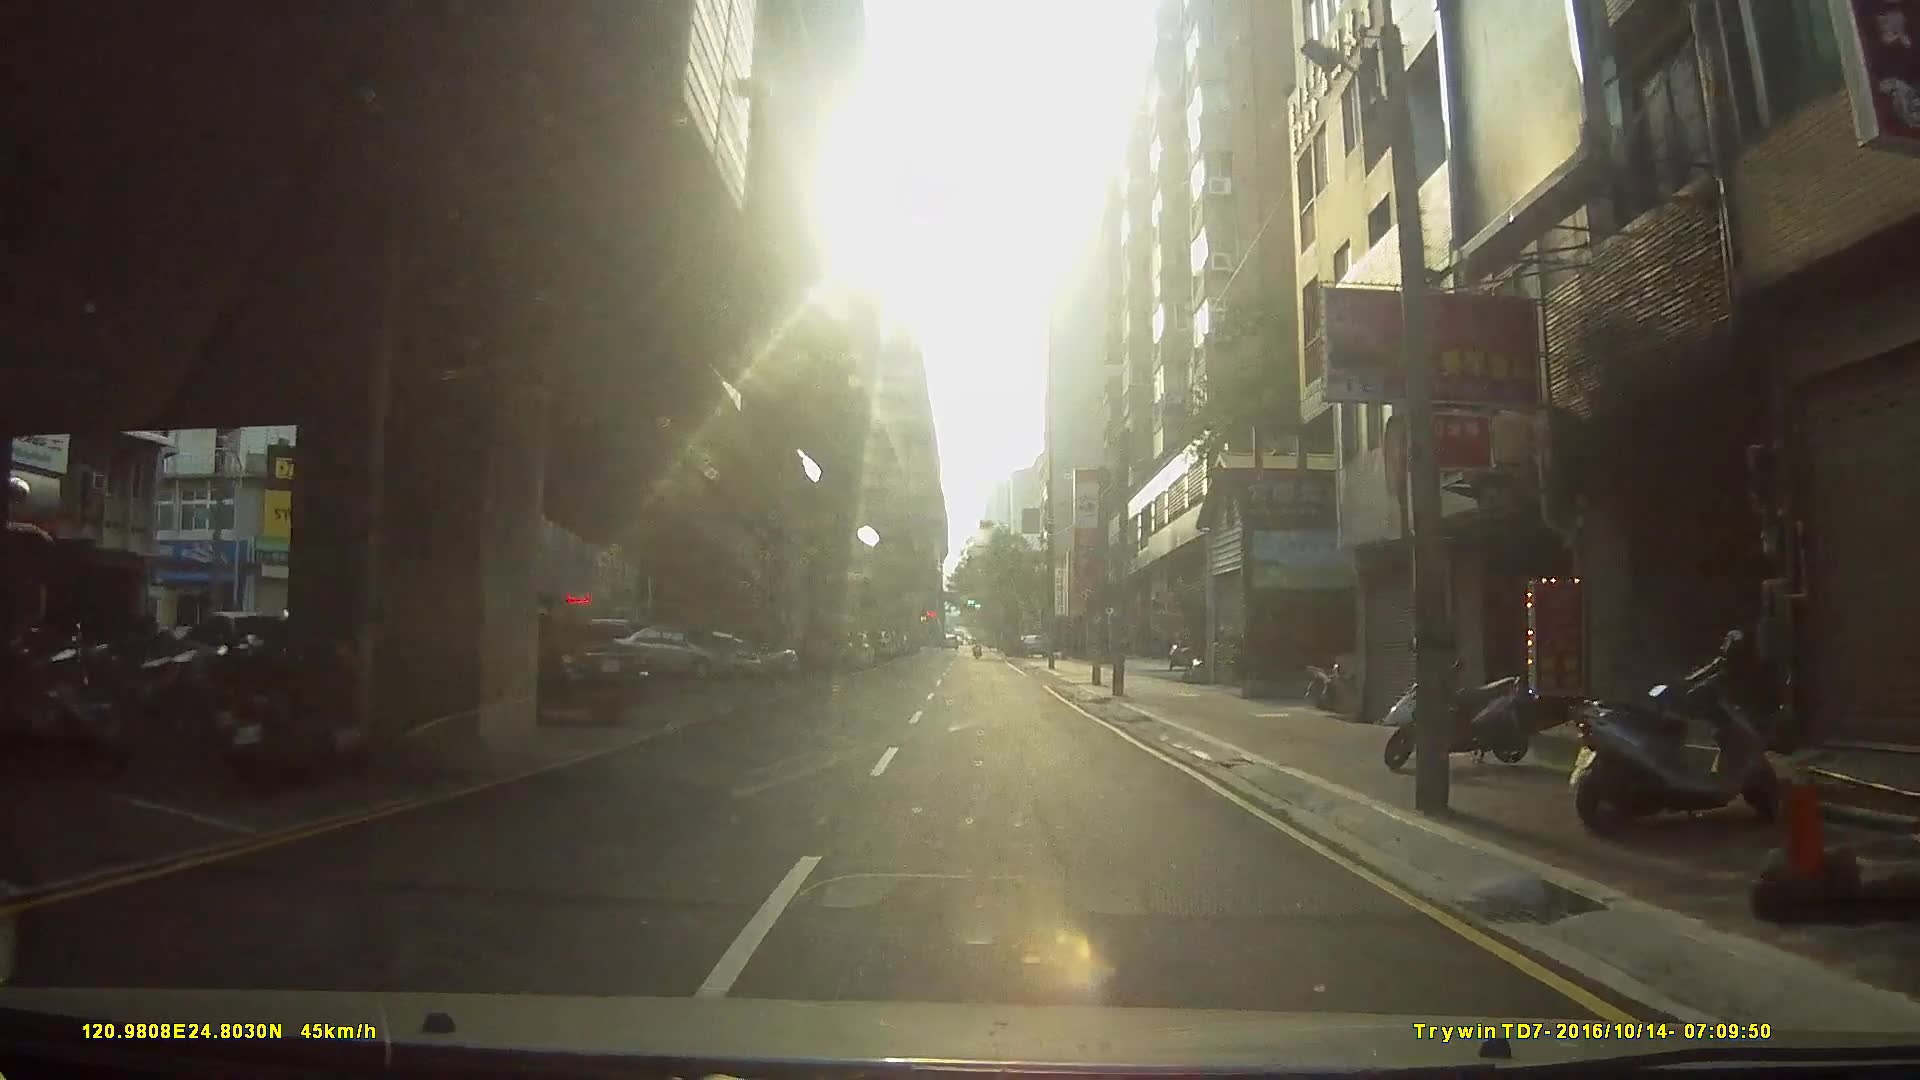vehicle: (451, 615, 649, 723), (611, 624, 764, 682)
